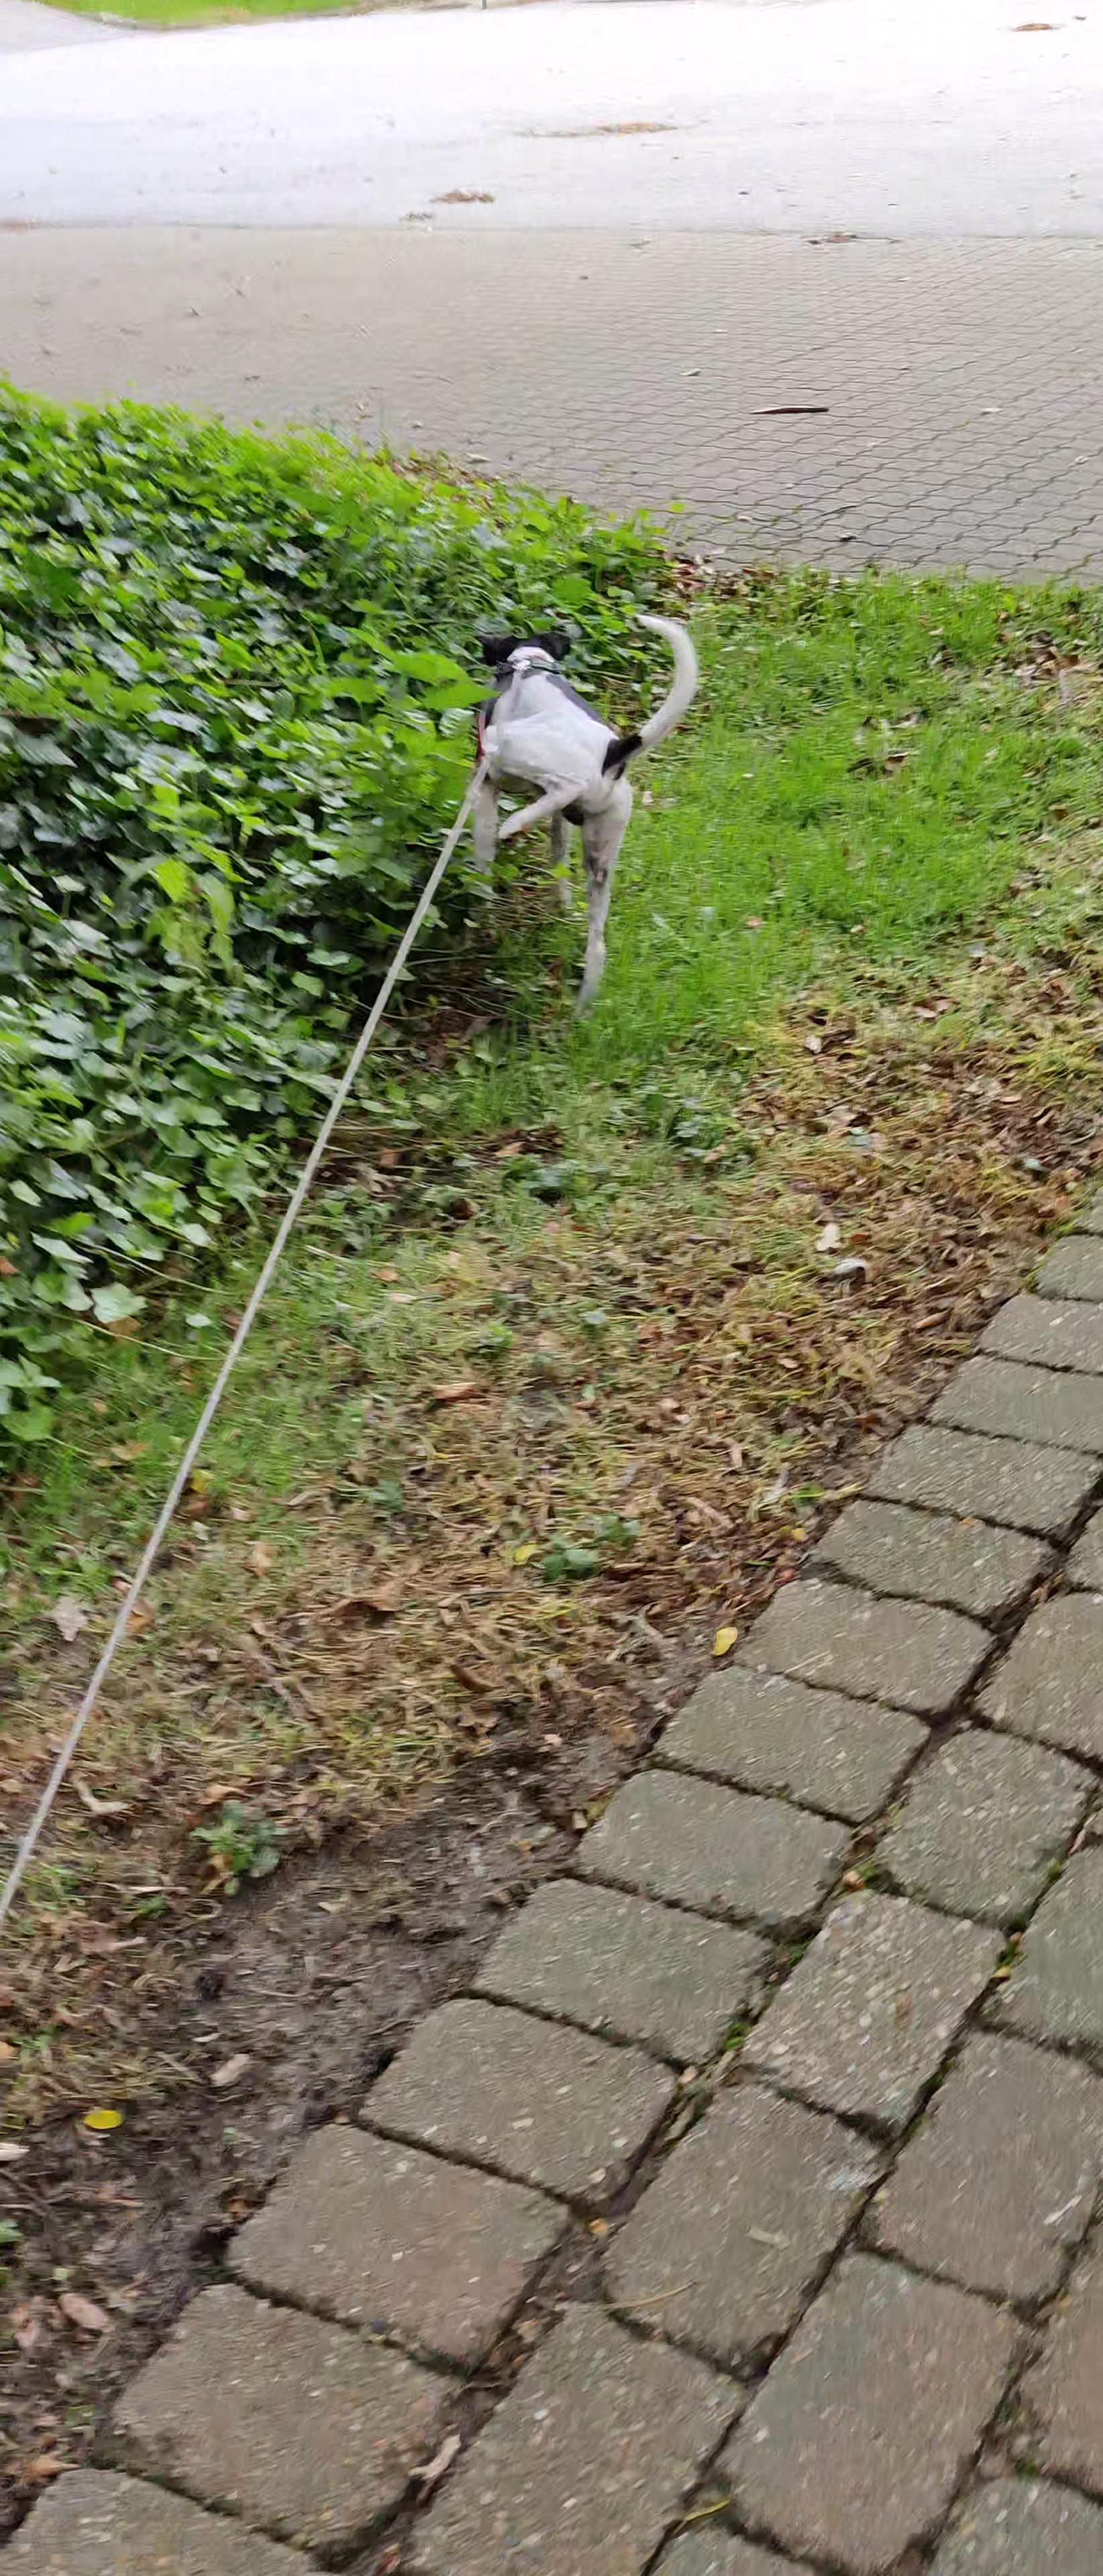Dog: (422, 600, 707, 1015)
